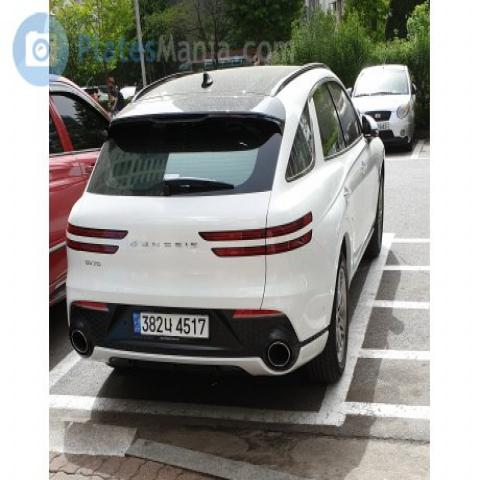LP: (127, 304, 217, 344)
